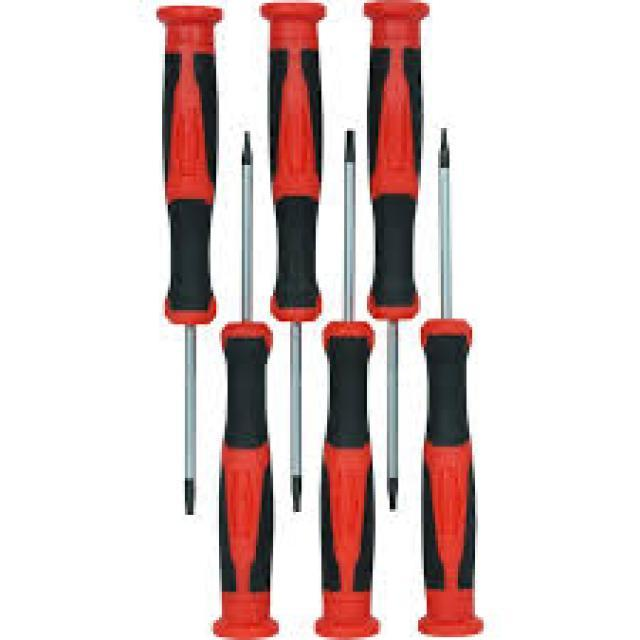screwdriver: (361, 0, 432, 523), (258, 0, 328, 518), (210, 125, 279, 640), (313, 125, 382, 640), (156, 2, 222, 524), (414, 125, 476, 640)
